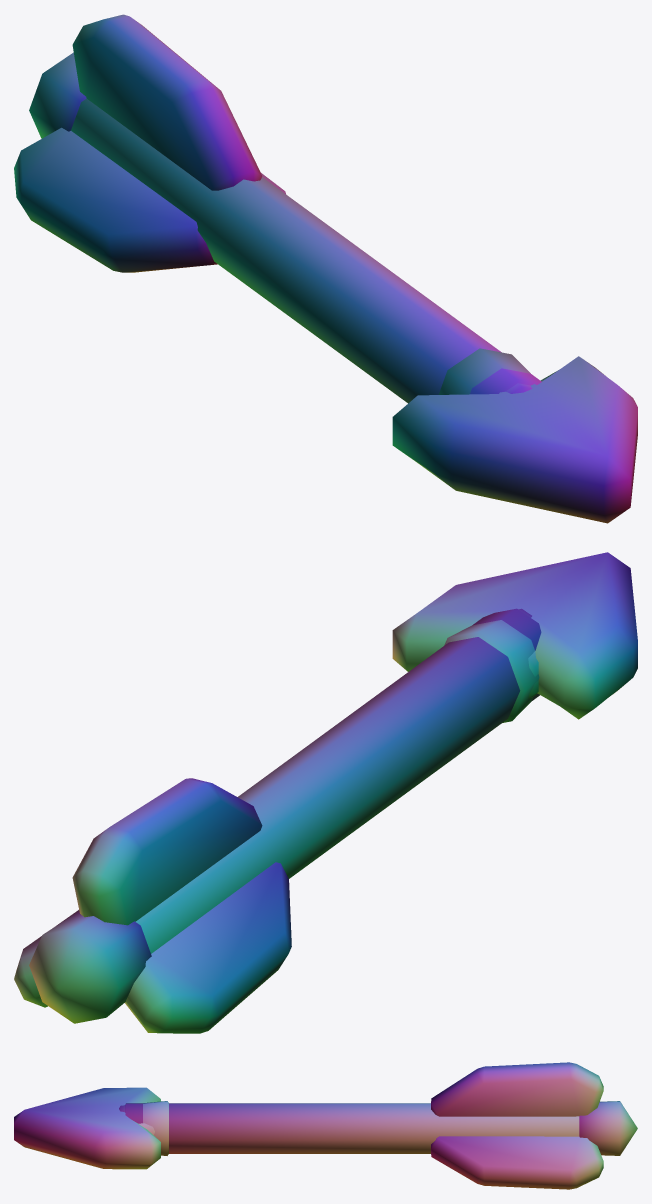
Rendered from SM_FX_Arrow.fbx.
3 renders of one model, top to bottom at view 1: azimuth 30°, elevation 25°; view 2: azimuth 150°, elevation 25°; view 3: azimuth 270°, elevation 25°, orthographic. The views are drawn at different scales.
Visible parts, largest first — view 1: SM_FX_Arrow; view 2: SM_FX_Arrow; view 3: SM_FX_Arrow.
Part boxes in pixels (left/top/right/bottom): SM_FX_Arrow: left=14, top=14, right=637, bottom=523; SM_FX_Arrow: left=14, top=552, right=637, bottom=1033; SM_FX_Arrow: left=14, top=1062, right=637, bottom=1189.
Size of the model in its own units: 0.1131 by 0.0991 by 0.541.
